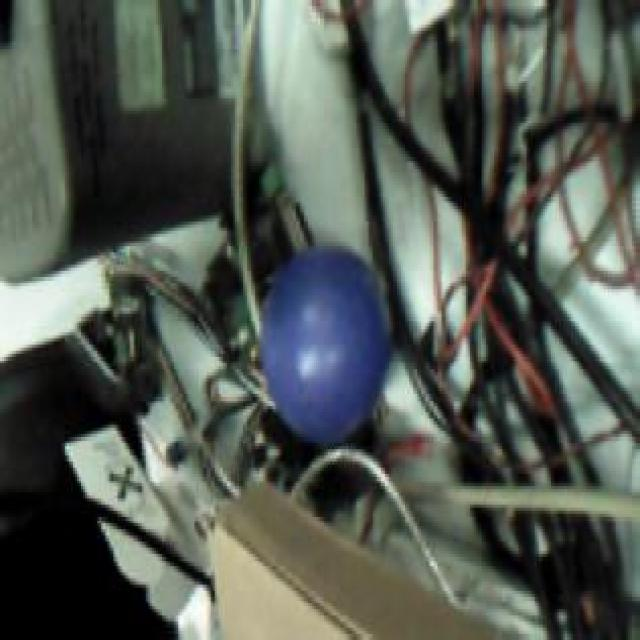BallPurple: (260, 245, 390, 447)
